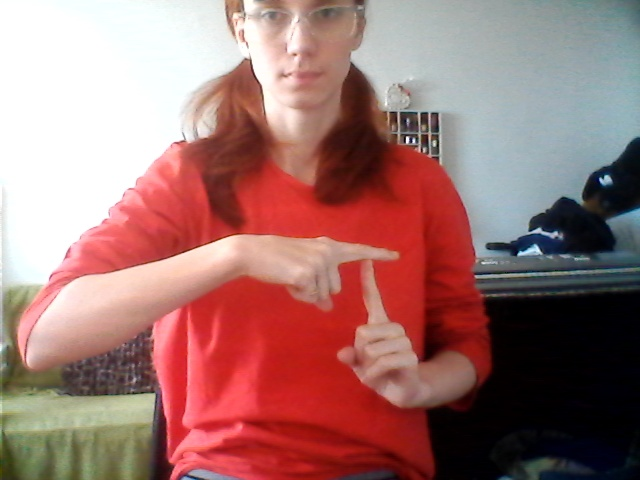t: (258, 215, 422, 416)
